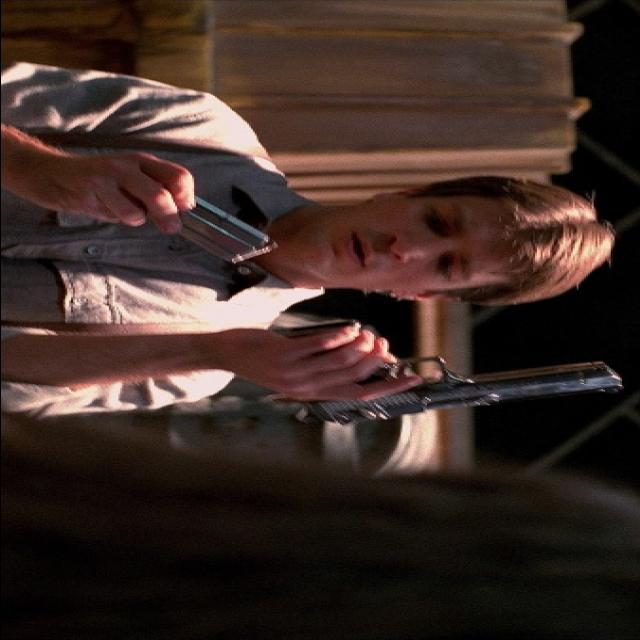weapons: (232, 315, 634, 431)
